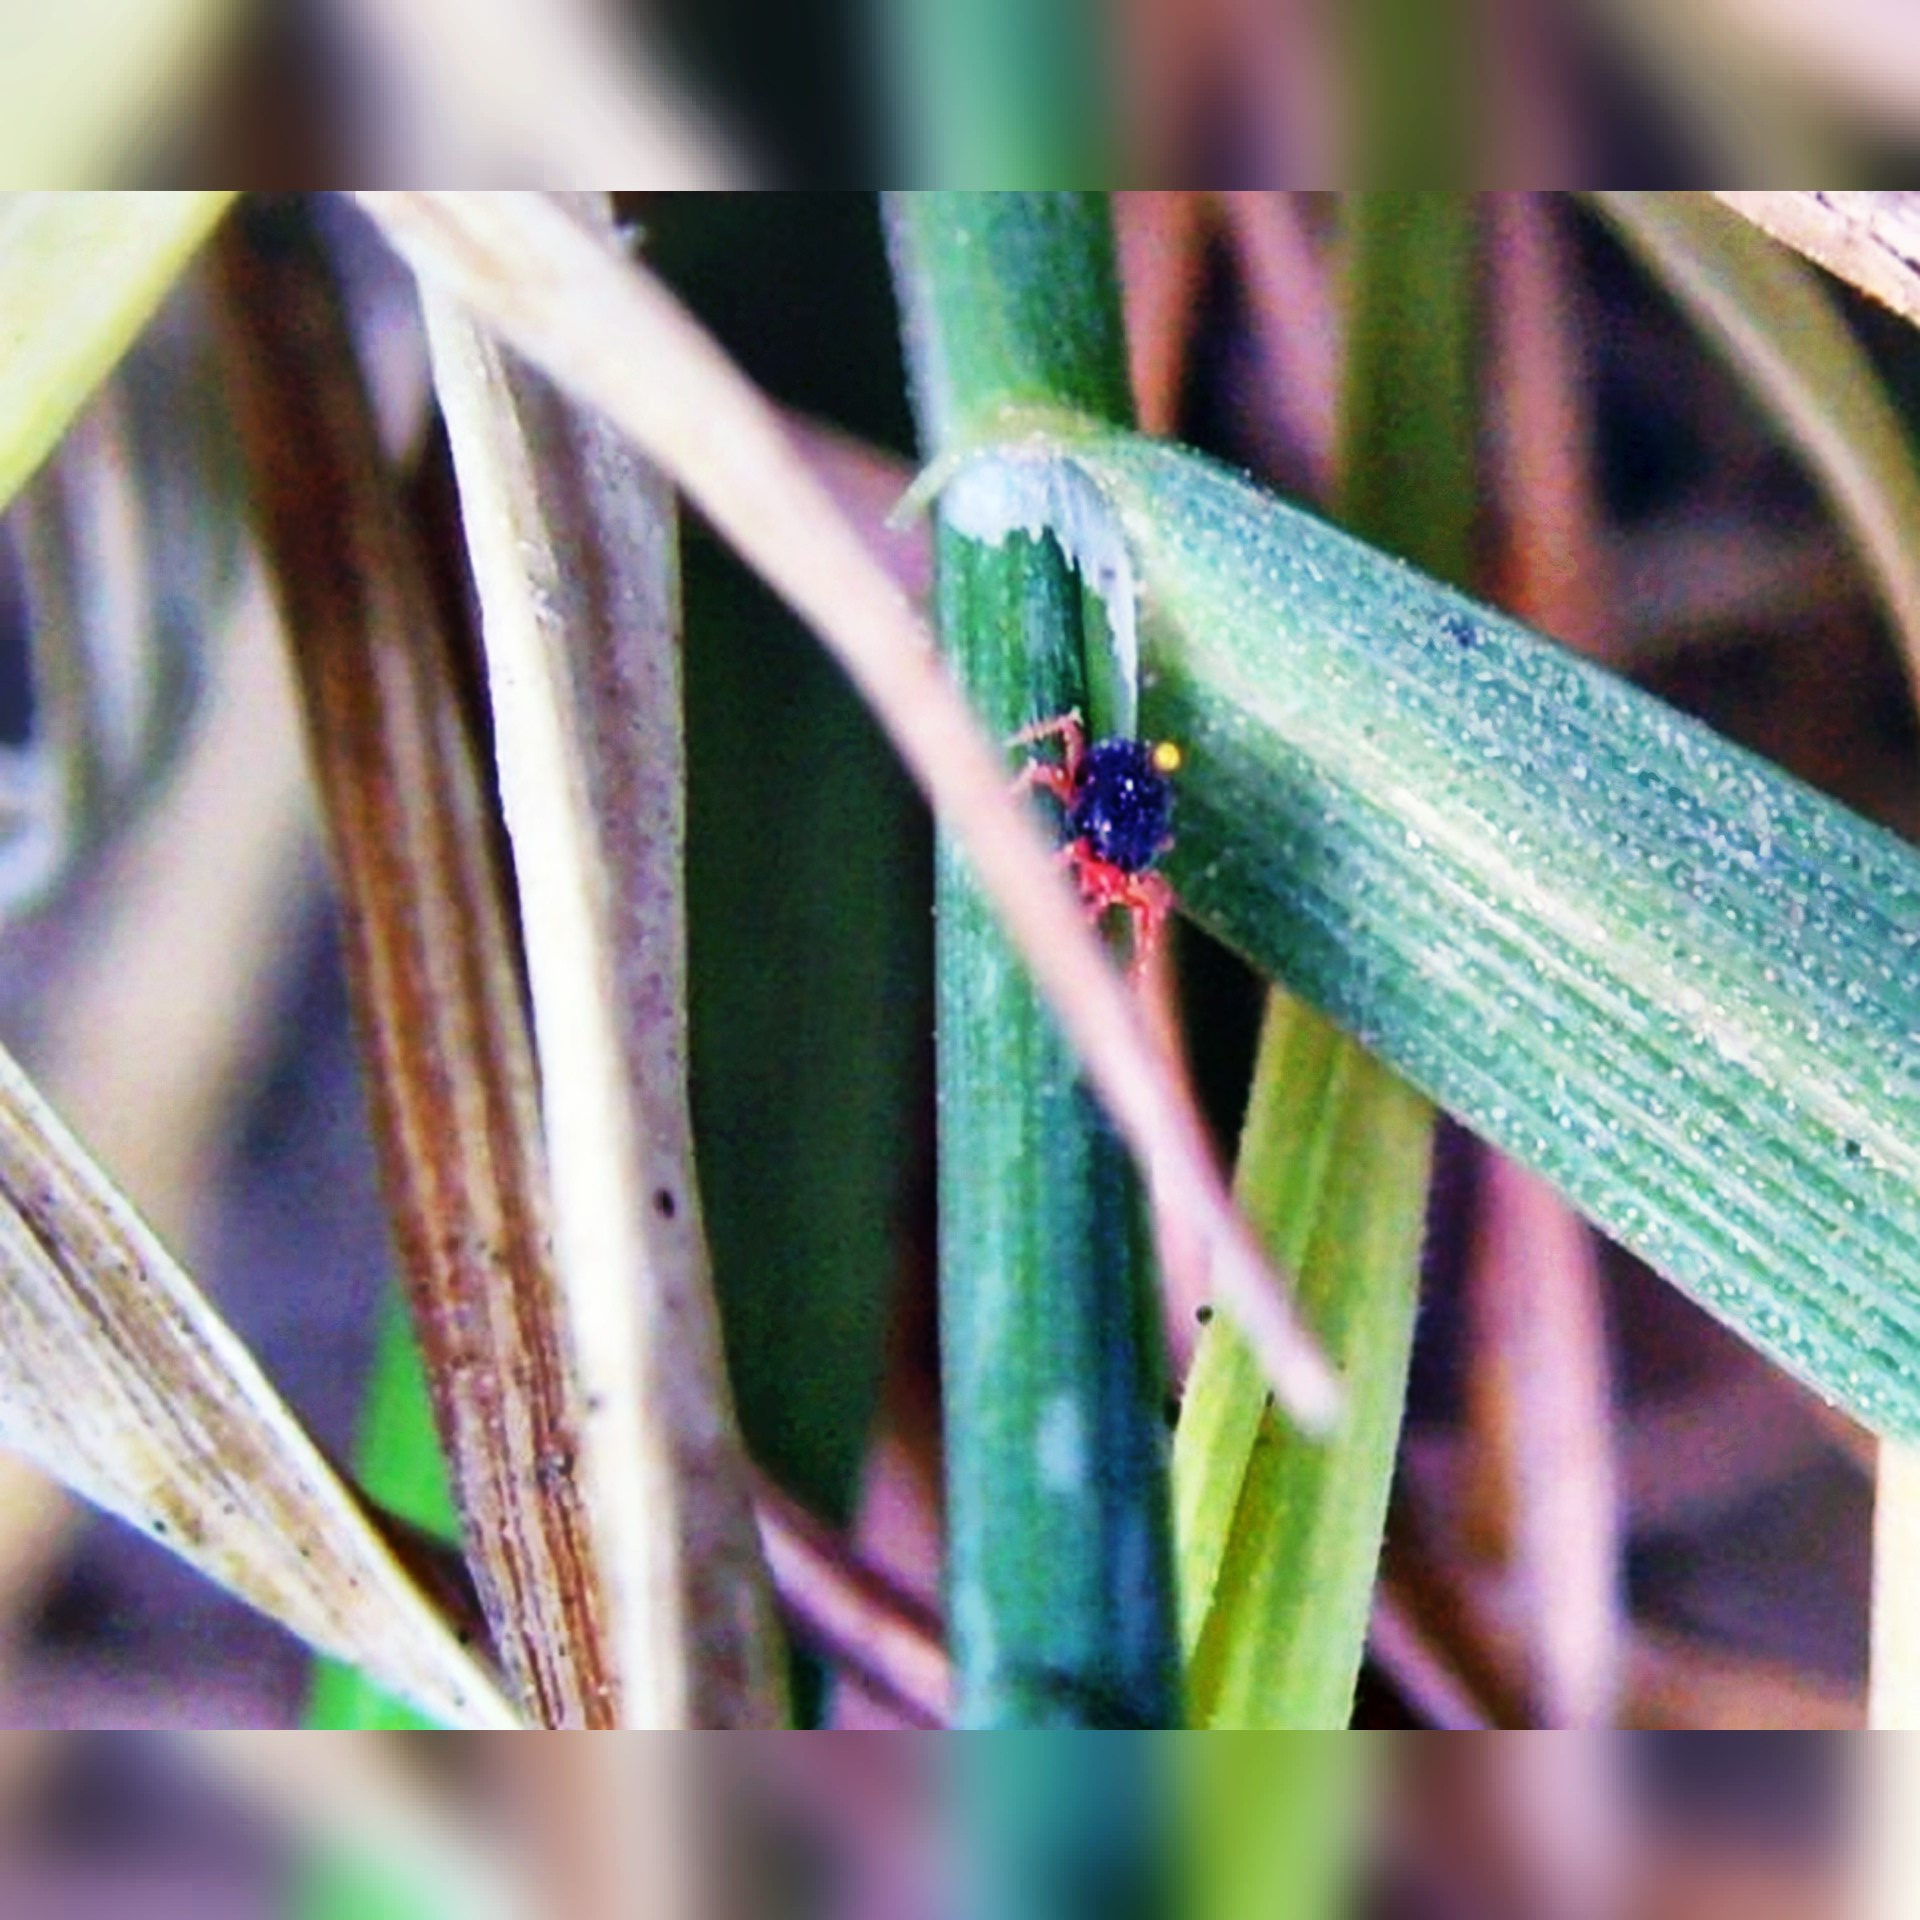Wheat Red Spider: (990, 679, 1203, 985)
